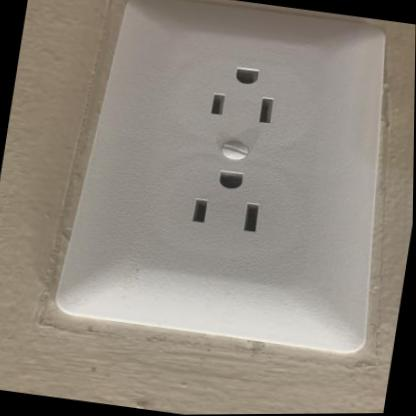OUTLET: (47, 0, 416, 363)
